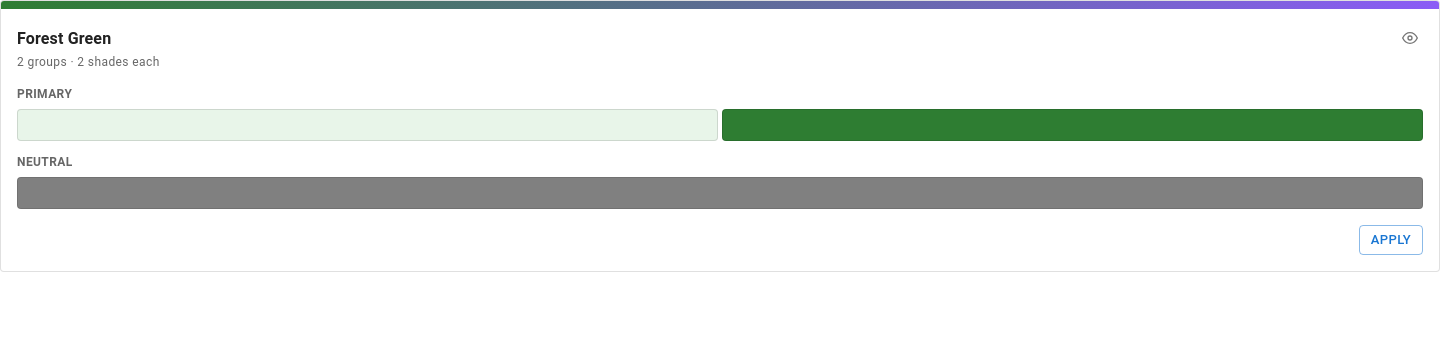
ColorCard › shows an error if persisting the applied theme fails
Click the button "Apply".
click(1391, 240)  # box x1=1359 y1=225 x2=1423 y2=256
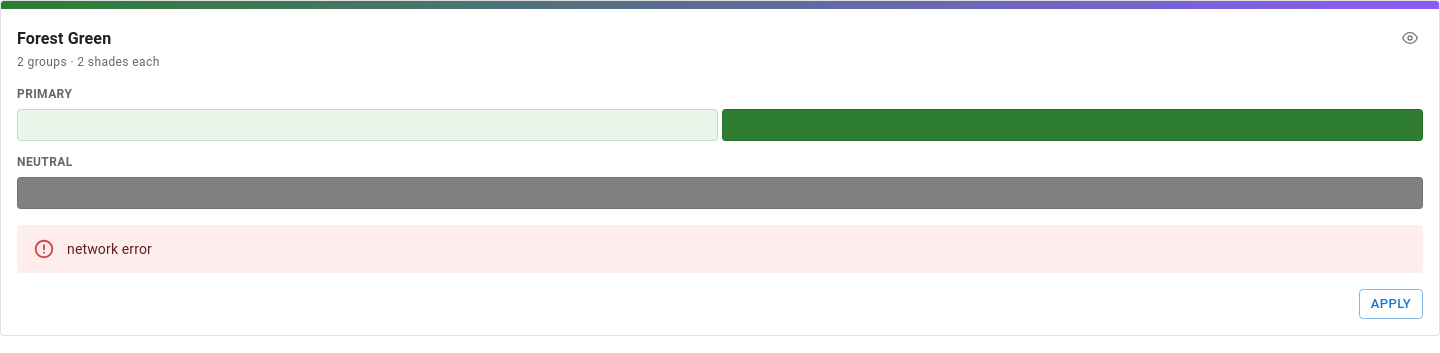
expect the text "network error" is shown: met, box x1=67 y1=241 x2=152 y2=257
